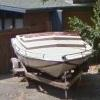Boat: (8, 30, 94, 91)
